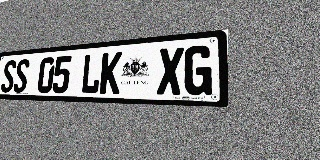0: (37, 57, 56, 93)
5: (52, 56, 72, 93)
G: (183, 45, 213, 95)
K: (99, 52, 122, 94)
L: (80, 53, 102, 94)
S: (13, 59, 30, 93), (0, 60, 17, 93)
X: (157, 47, 184, 95)
